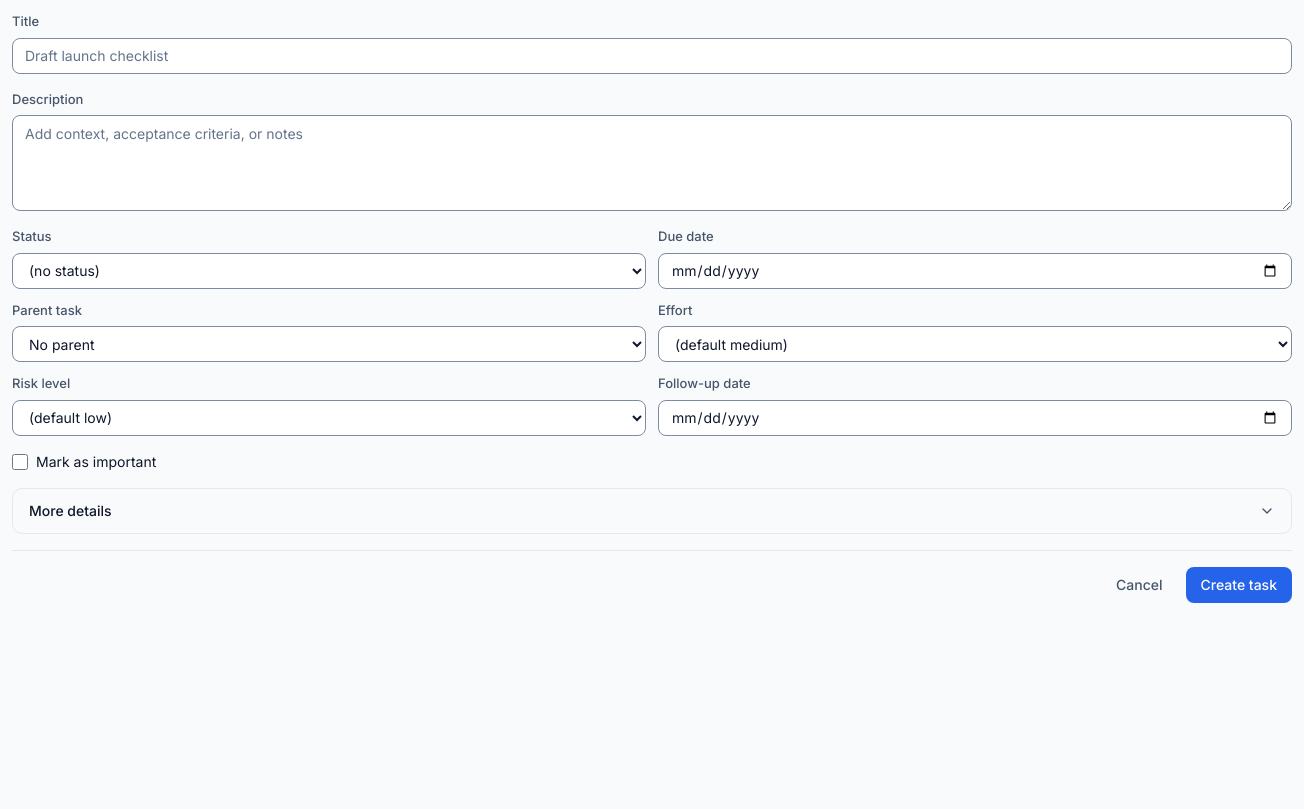
Test: TaskCreateForm cross-field validation › blocks submit when status is Waiting without waitingOn and followUpDate
The width and height of the screenshot is (1304, 809).
Step 1. Type "Ship release" into the field labelled "Title" → (652, 56), box [12,38,1292,74]
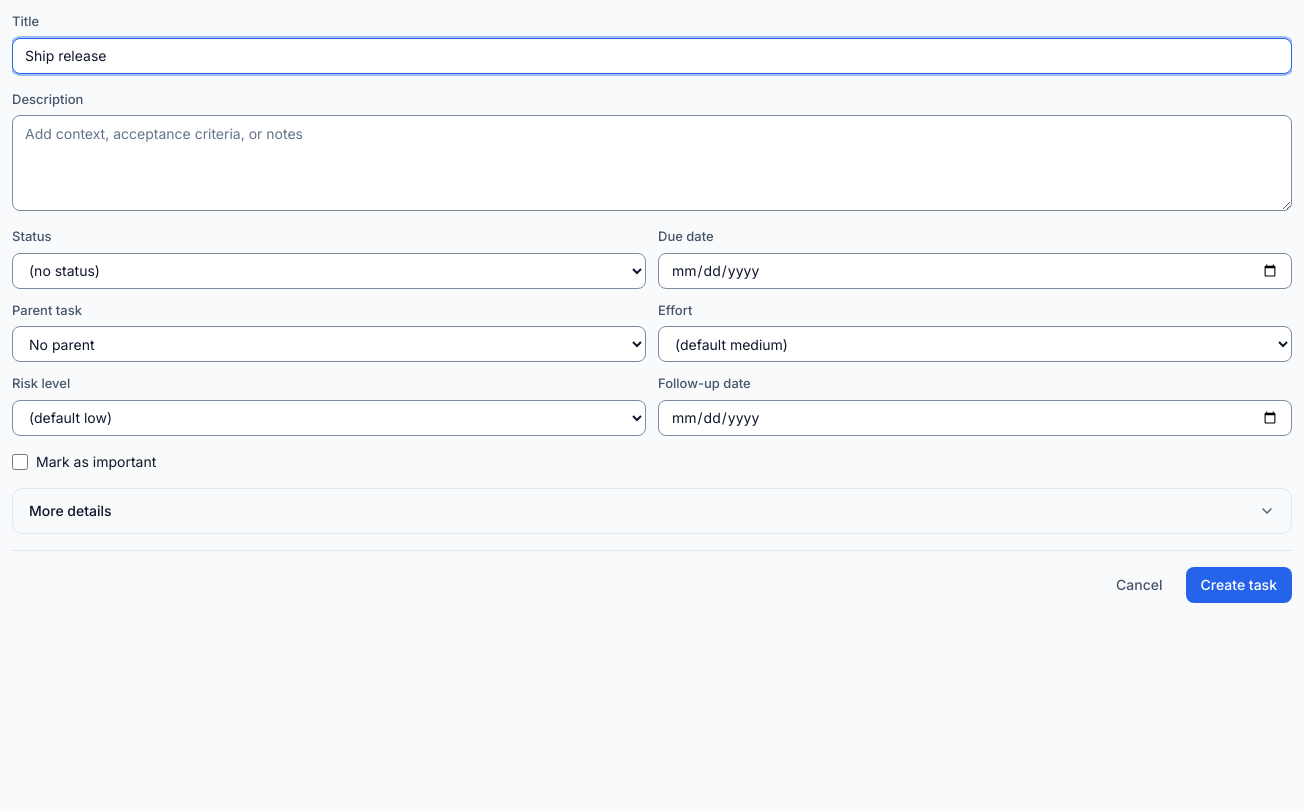
Step 2. Select "WAITING" in the dropdown labelled "Status" → (329, 270), box [12,252,646,288]
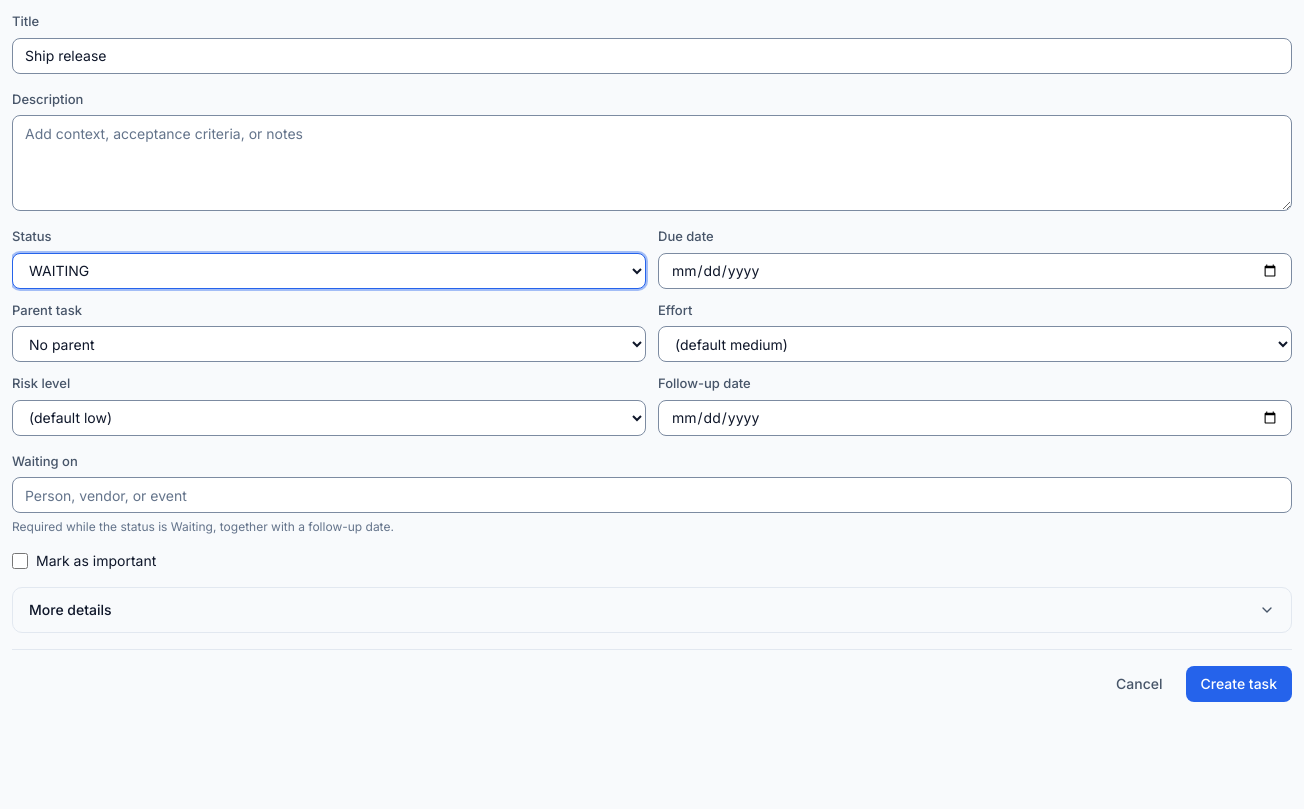
Step 3. Click the button "Create task" → (1239, 684), box [1186,666,1292,702]
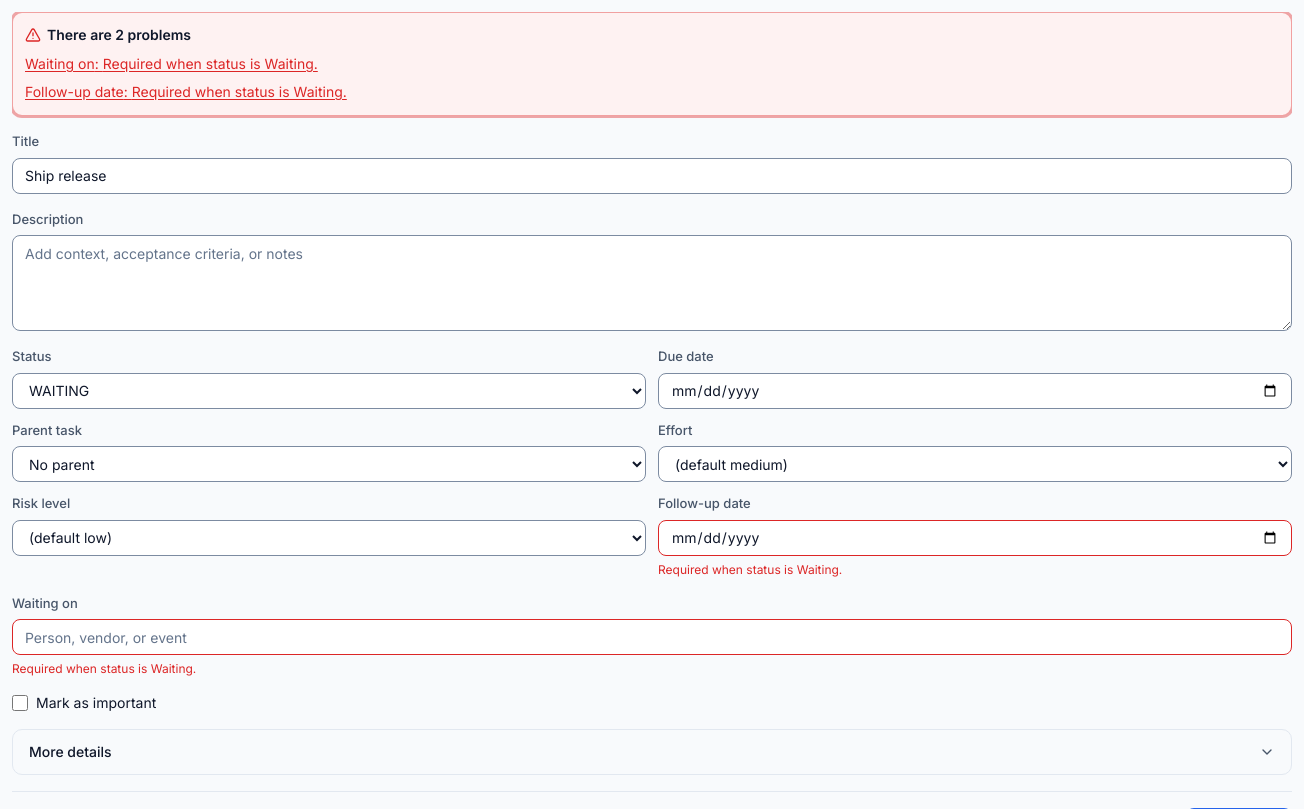
Result: the text "Required when status is Waiting." is shown 2 times at [658,562,842,576]; [12,661,196,676]
